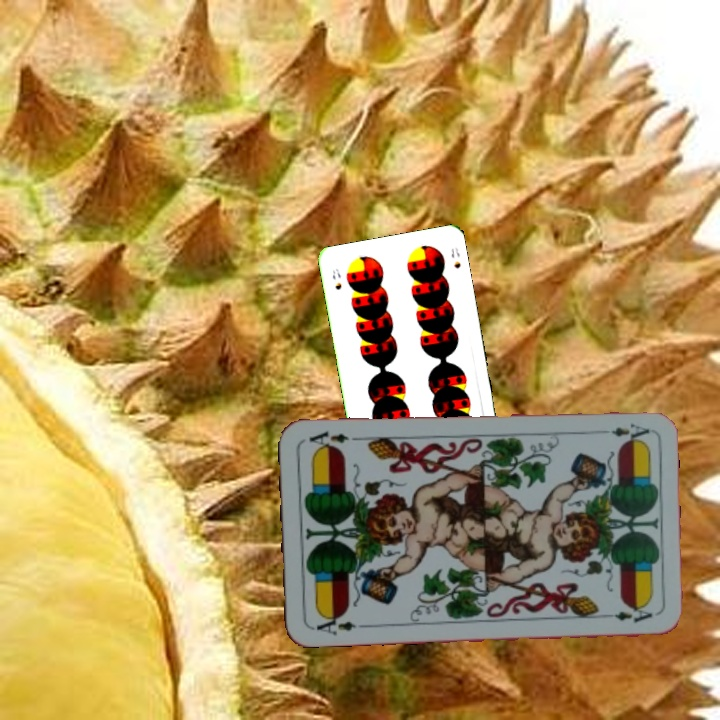EA: (308, 611, 368, 638), (608, 419, 652, 443)
S8: (328, 265, 344, 292)
